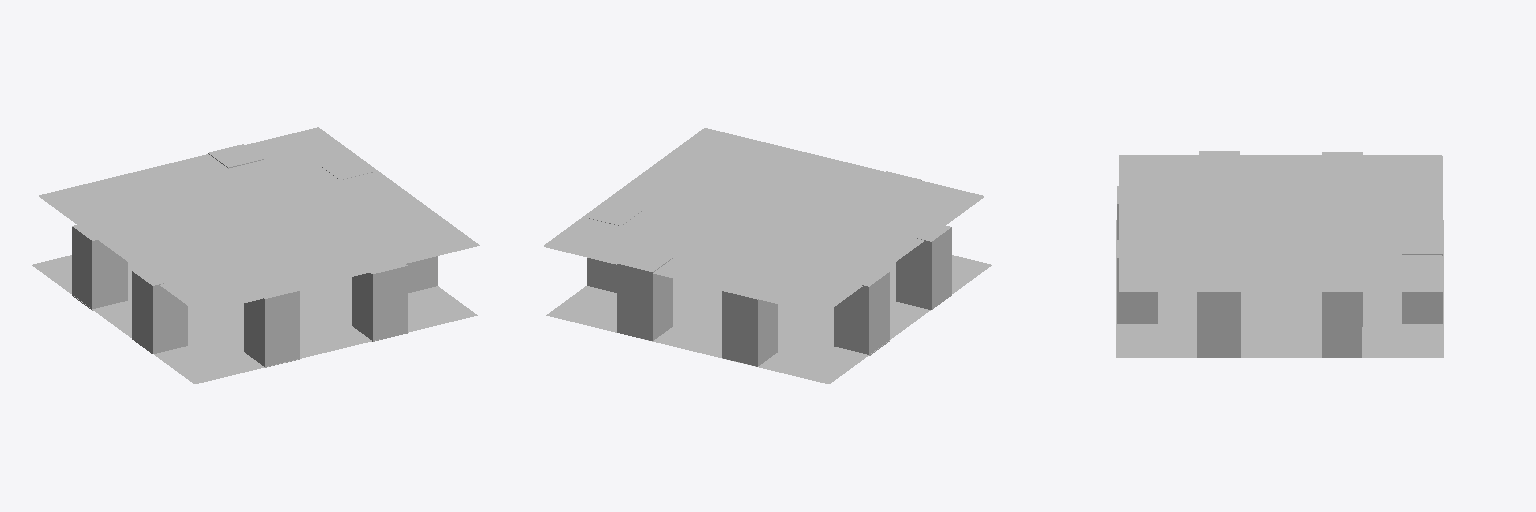
File: enviroment.obj
3 renders of one model, left to right at view 1: azimuth 30°, elevation 25°; view 2: azimuth 150°, elevation 25°; view 3: azimuth 270°, elevation 25°, orthographic.
Visible parts, largest first — view 1: Cube.008, Plane.001, Cube.004, Cube.006, Cube.005, Cube.003, Cube.007, Cube.002, Cube.010_Cube.009; view 2: Cube.008, Plane.001, Cube.002, Cube.004, Cube.001, Cube.003, Cube.009_Cube.008, Cube.010_Cube.009; view 3: Cube.008, Plane.001, Cube.007, Cube.010_Cube.009, Cube.002, Cube.006, Cube.004.
Part boxes in pixels (bbox=[...]): Cube.008: bbox=[39, 127, 479, 313]; Plane.001: bbox=[32, 255, 477, 383]; Cube.004: bbox=[132, 263, 187, 353]; Cube.006: bbox=[352, 264, 407, 341]; Cube.005: bbox=[244, 290, 299, 367]; Cube.003: bbox=[72, 224, 127, 310]; Cube.007: bbox=[406, 256, 437, 292]; Cube.002: bbox=[208, 144, 263, 168]; Cube.010_Cube.009: bbox=[320, 157, 375, 179]; Cube.008: bbox=[544, 128, 983, 313]; Plane.001: bbox=[546, 255, 991, 383]; Cube.002: bbox=[617, 249, 672, 340]; Cube.004: bbox=[896, 218, 951, 309]; Cube.001: bbox=[722, 291, 777, 366]; Cube.003: bbox=[834, 270, 889, 355]; Cube.009_Cube.008: bbox=[544, 197, 983, 314]; Cube.010_Cube.009: bbox=[586, 202, 641, 225]; Cube.008: bbox=[1119, 155, 1441, 357]; Plane.001: bbox=[1116, 220, 1443, 357]; Cube.007: bbox=[1197, 292, 1240, 357]; Cube.010_Cube.009: bbox=[1322, 273, 1362, 326]; Cube.002: bbox=[1402, 237, 1442, 323]; Cube.006: bbox=[1117, 240, 1157, 323]; Cube.004: bbox=[1199, 151, 1239, 168].
Size of the model in its own units: 16.19 by 3.8 by 15.96.